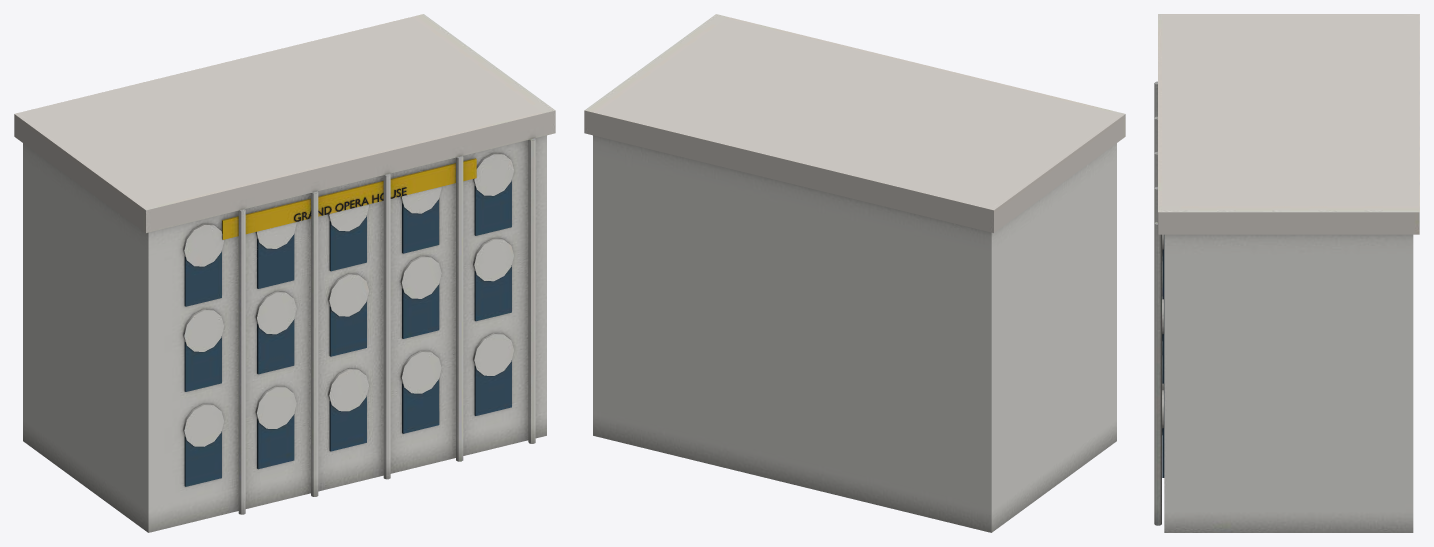
The model's file is opera_wilmington.glb.
3 views of the same model, side by side, from view 1: azimuth 30°, elevation 25°; view 2: azimuth 150°, elevation 25°; view 3: azimuth 270°, elevation 25° (orthographic).
Parts seen in each view (by area): view 1: opera_wilmington; view 2: opera_wilmington; view 3: opera_wilmington.
Boxes of the visible parts, bbox=[...] form: opera_wilmington: bbox=[14, 14, 555, 532]; opera_wilmington: bbox=[584, 14, 1125, 532]; opera_wilmington: bbox=[1154, 14, 1419, 532].
Bounding box in the file's own units: 22.6 × 17.2 × 12.78.
Materials: 1 (1 with a texture image).
